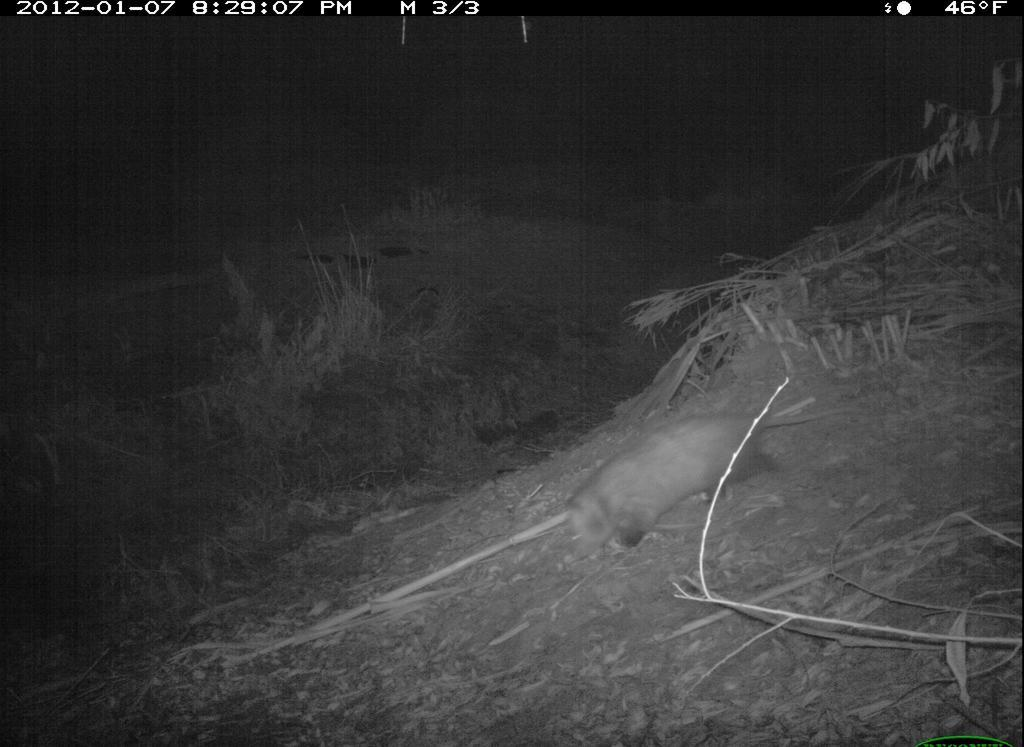opossum: (515, 396, 815, 569)
